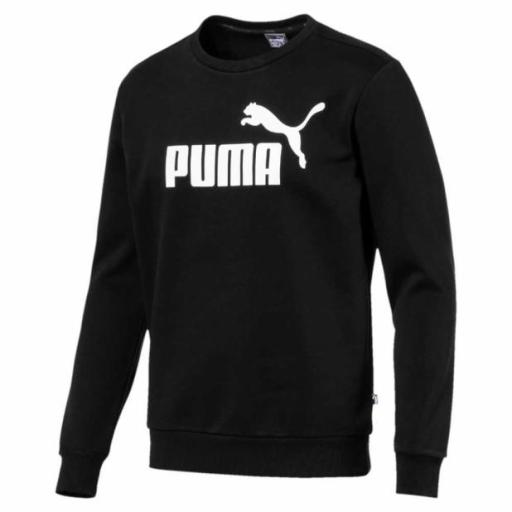Puma: (239, 97, 331, 172), (163, 141, 284, 192)
